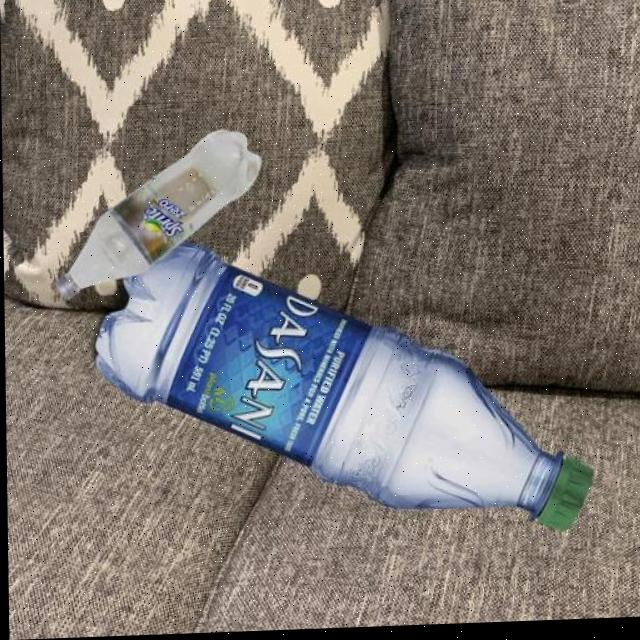bottle: (90, 229, 593, 550), (49, 127, 264, 302)
